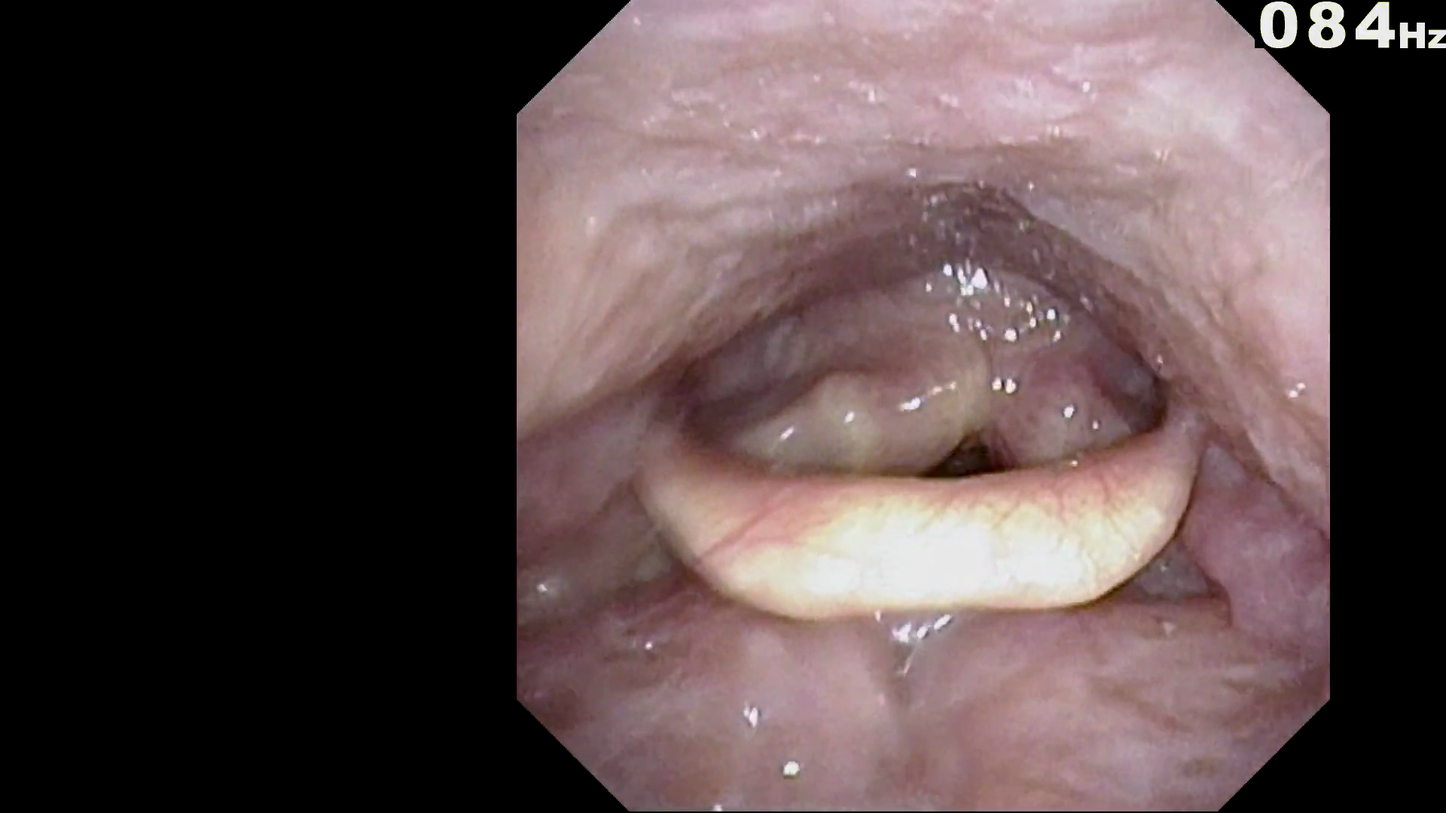epiglottis: (625, 349, 1222, 644)
trachea: (938, 404, 1023, 495)
